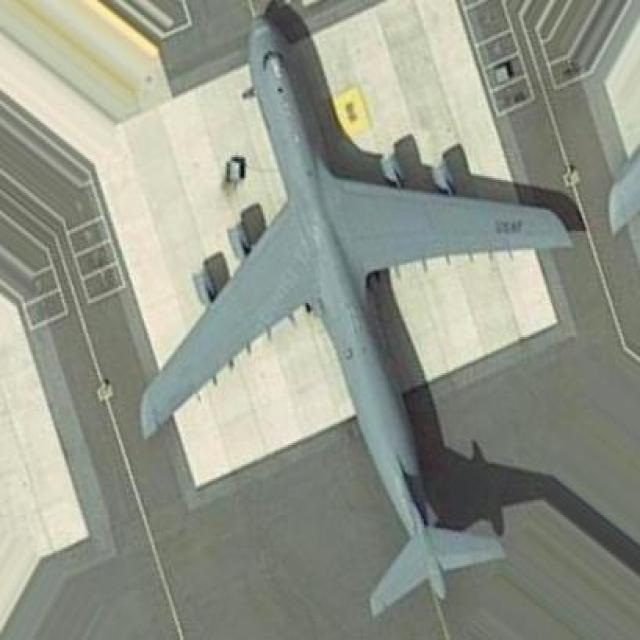C-5_TopDown: (139, 0, 587, 621)
